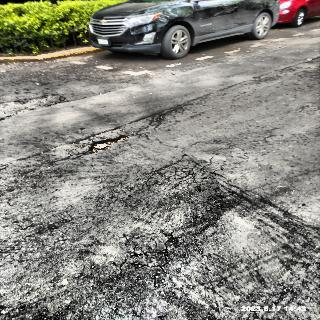alligator-crack: (113, 228, 178, 276), (149, 150, 226, 185)
crack: (143, 103, 191, 130)
pothole: (82, 133, 128, 155)
